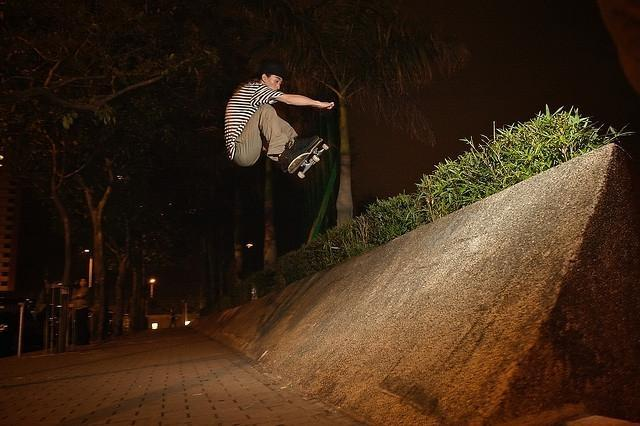car: (0, 306, 44, 356)
